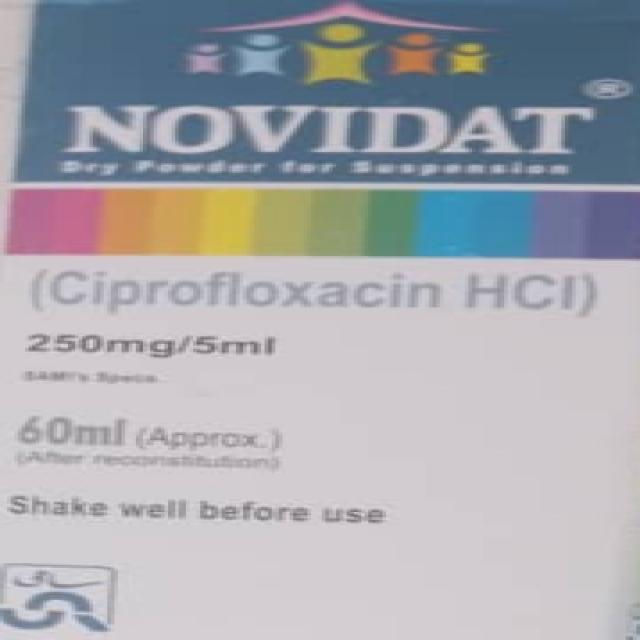drug-name: (62, 100, 596, 158)
